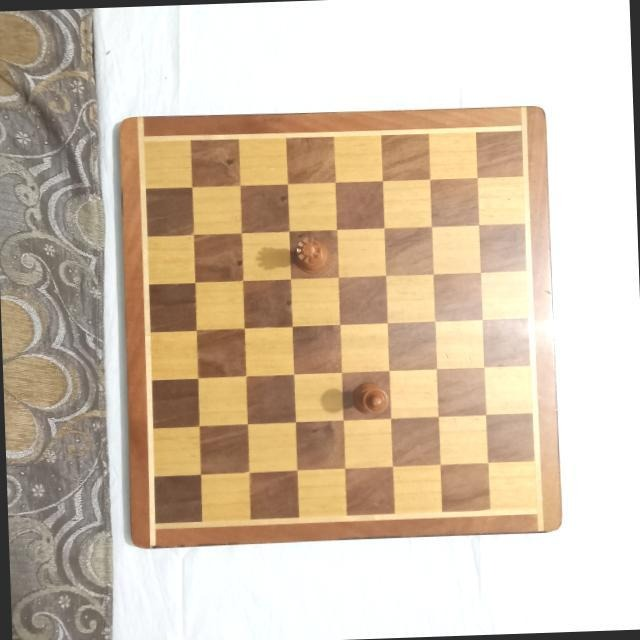white-king: (348, 380, 388, 415)
white-queen: (293, 235, 334, 276)
